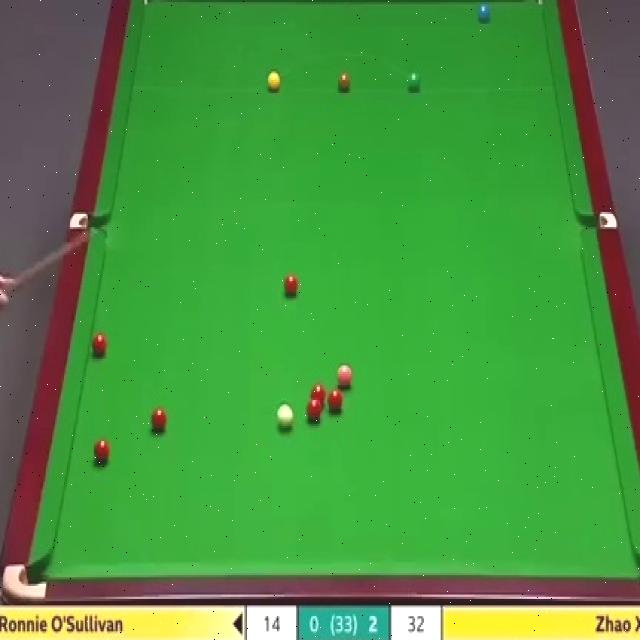blue-ball: (475, 0, 491, 24)
brown-ball: (337, 72, 352, 94)
green-ball: (406, 72, 422, 95)
pink-ball: (333, 364, 353, 390)
red-ball: (93, 437, 111, 467), (150, 408, 167, 437), (283, 272, 300, 299), (305, 399, 323, 424), (90, 332, 107, 358), (326, 388, 344, 412), (309, 384, 327, 406)
white-ball: (275, 401, 295, 434)
yellow-ball: (267, 71, 281, 93)
